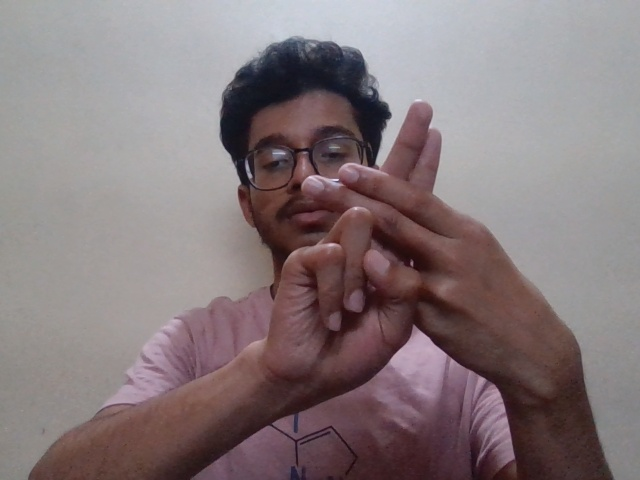disabled: (251, 103, 596, 423)
